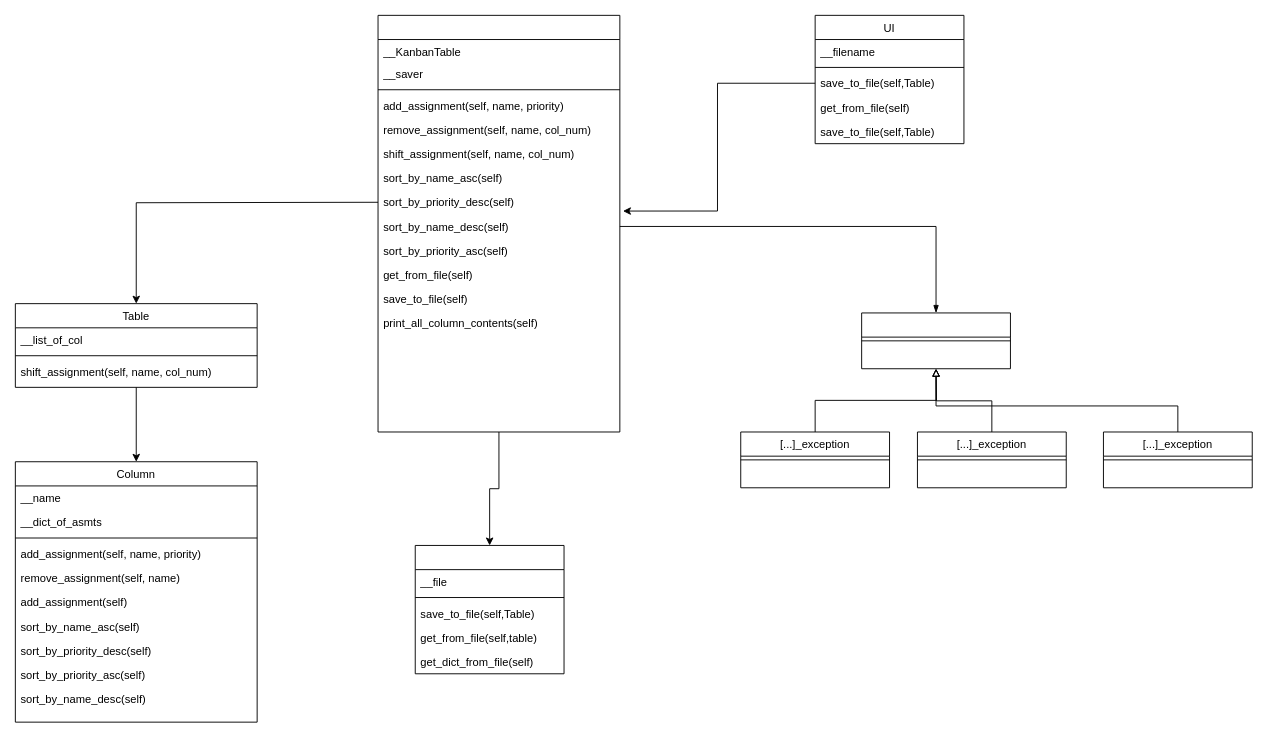
The diagram is 1268 pixels wide and 737 high, and some of its shapes have lost their labels. The box of each missing label's shape, as (x1, y1, x2, y2) in pixels:
Application: (377, 14, 620, 432)
Exception: (861, 312, 1010, 369)
Filesaver: (414, 545, 564, 674)
